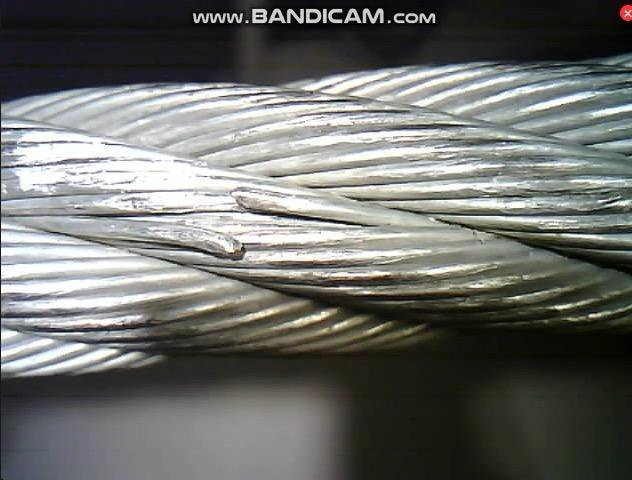break: (190, 183, 271, 264)
